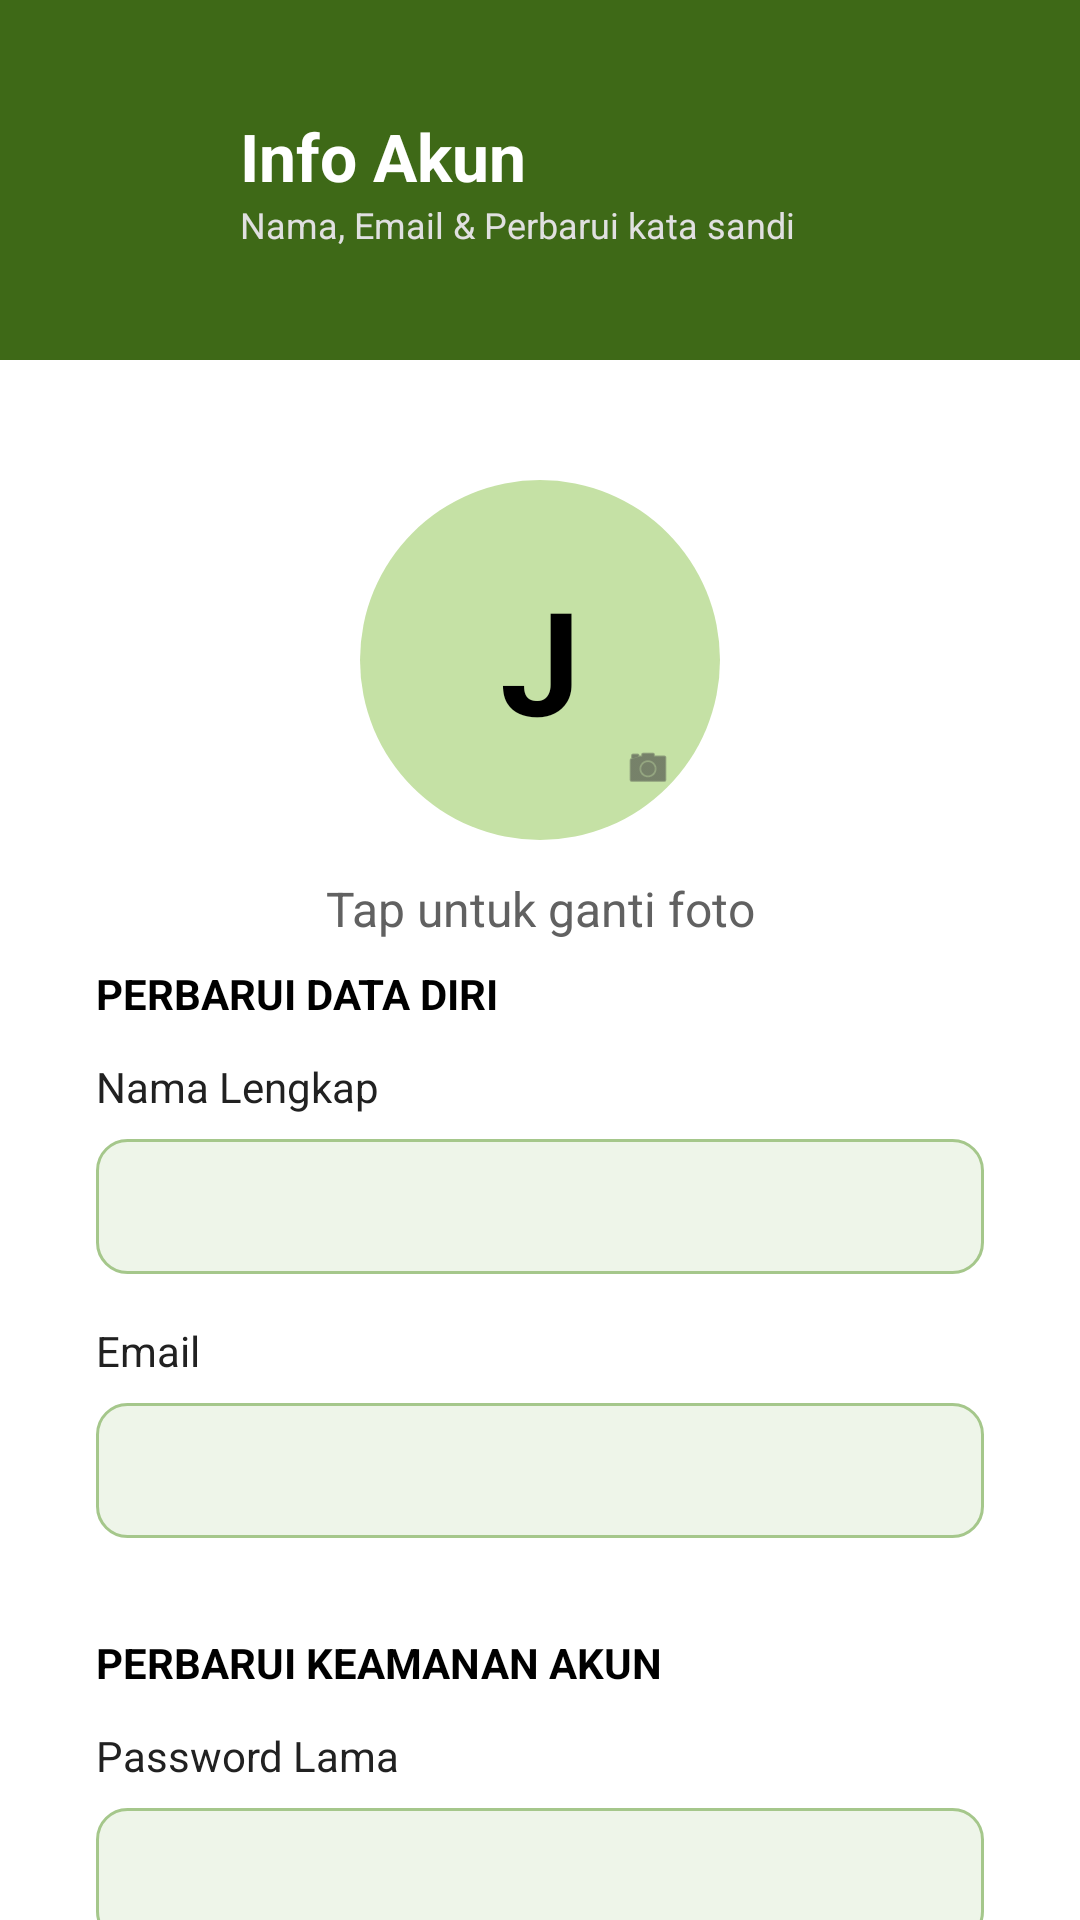

Where to tap for icons on this 1080w x 1920h app screen, as [x,y]:
camera: [648,767]
